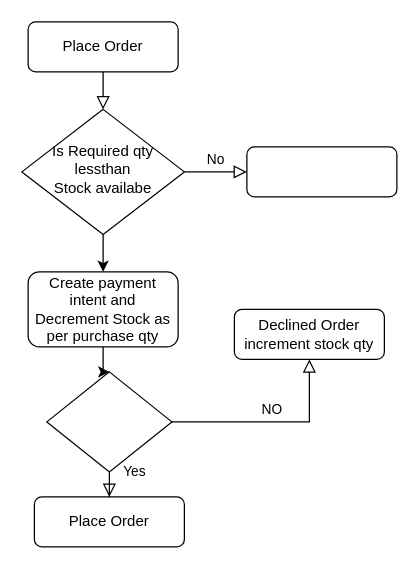
Some shapes in this 419 by 569 pixel diagram are drawn without their labels. The shapes that lost their labels are listed below. From the top down, each one's centre as x and y in pixels, then its label:
At point 321,171: "Throw Error out of Stock".
At point 109,421: "Payment Success".
